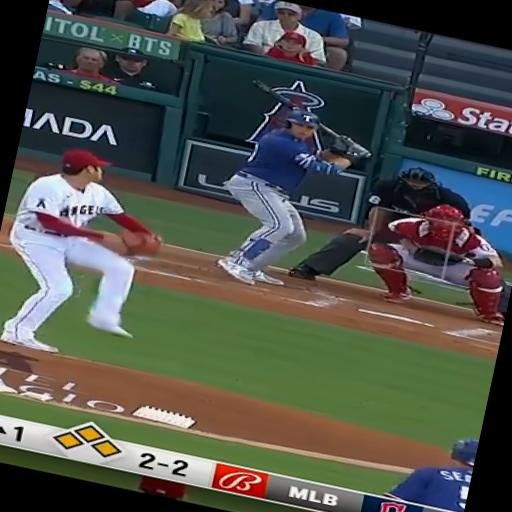bat: (320, 123, 372, 157)
